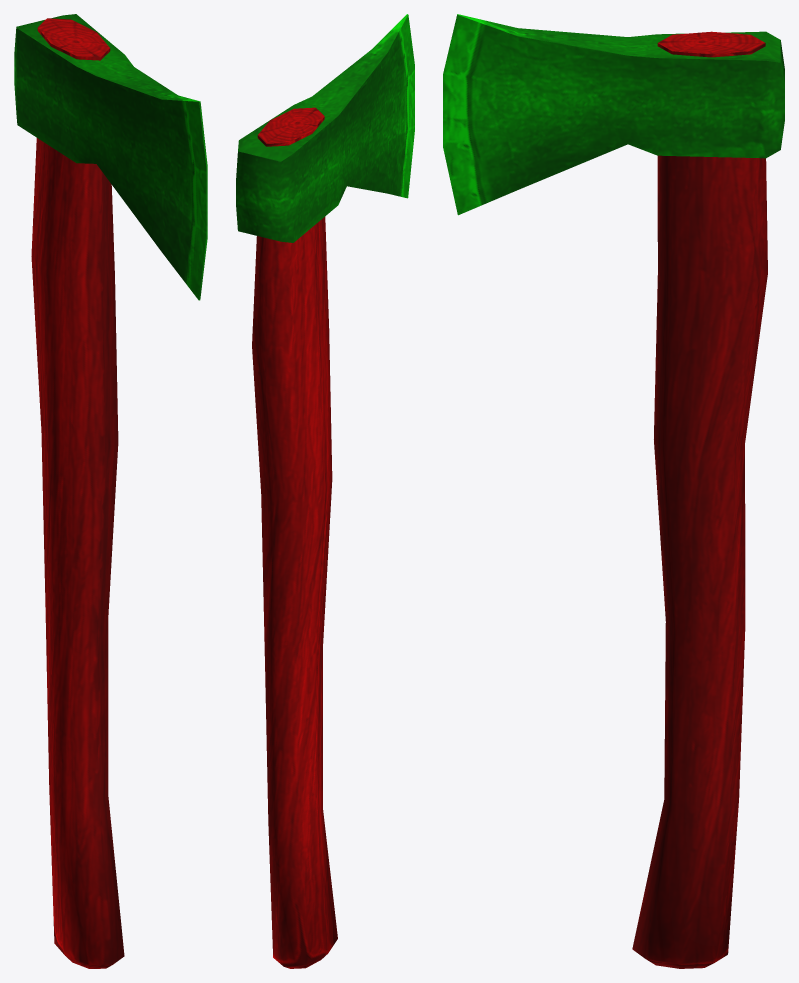
File: Hatchet01.fbx
The picture shows the model from 3 angles, left to right: view 1: azimuth 30°, elevation 25°; view 2: azimuth 150°, elevation 25°; view 3: azimuth 270°, elevation 25°; orthographic projection. The views are drawn at different scales.
Visible parts, largest first — view 1: Hatchet01_LOD0; view 2: Hatchet01_LOD0; view 3: Hatchet01_LOD0.
Part boxes in pixels (box(x1,y1,x2,y2)): Hatchet01_LOD0: box(14, 14, 207, 968); Hatchet01_LOD0: box(236, 14, 414, 968); Hatchet01_LOD0: box(443, 14, 784, 968).
Size of what is drawn, in the model's own units: 0.0343 by 0.5141 by 0.1674.
